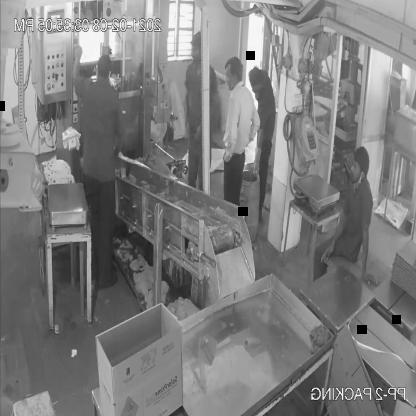glove: (247, 127, 265, 186)
no_glove: (315, 198, 352, 271), (355, 221, 379, 293), (220, 97, 240, 174), (109, 121, 130, 166), (69, 46, 84, 94)
